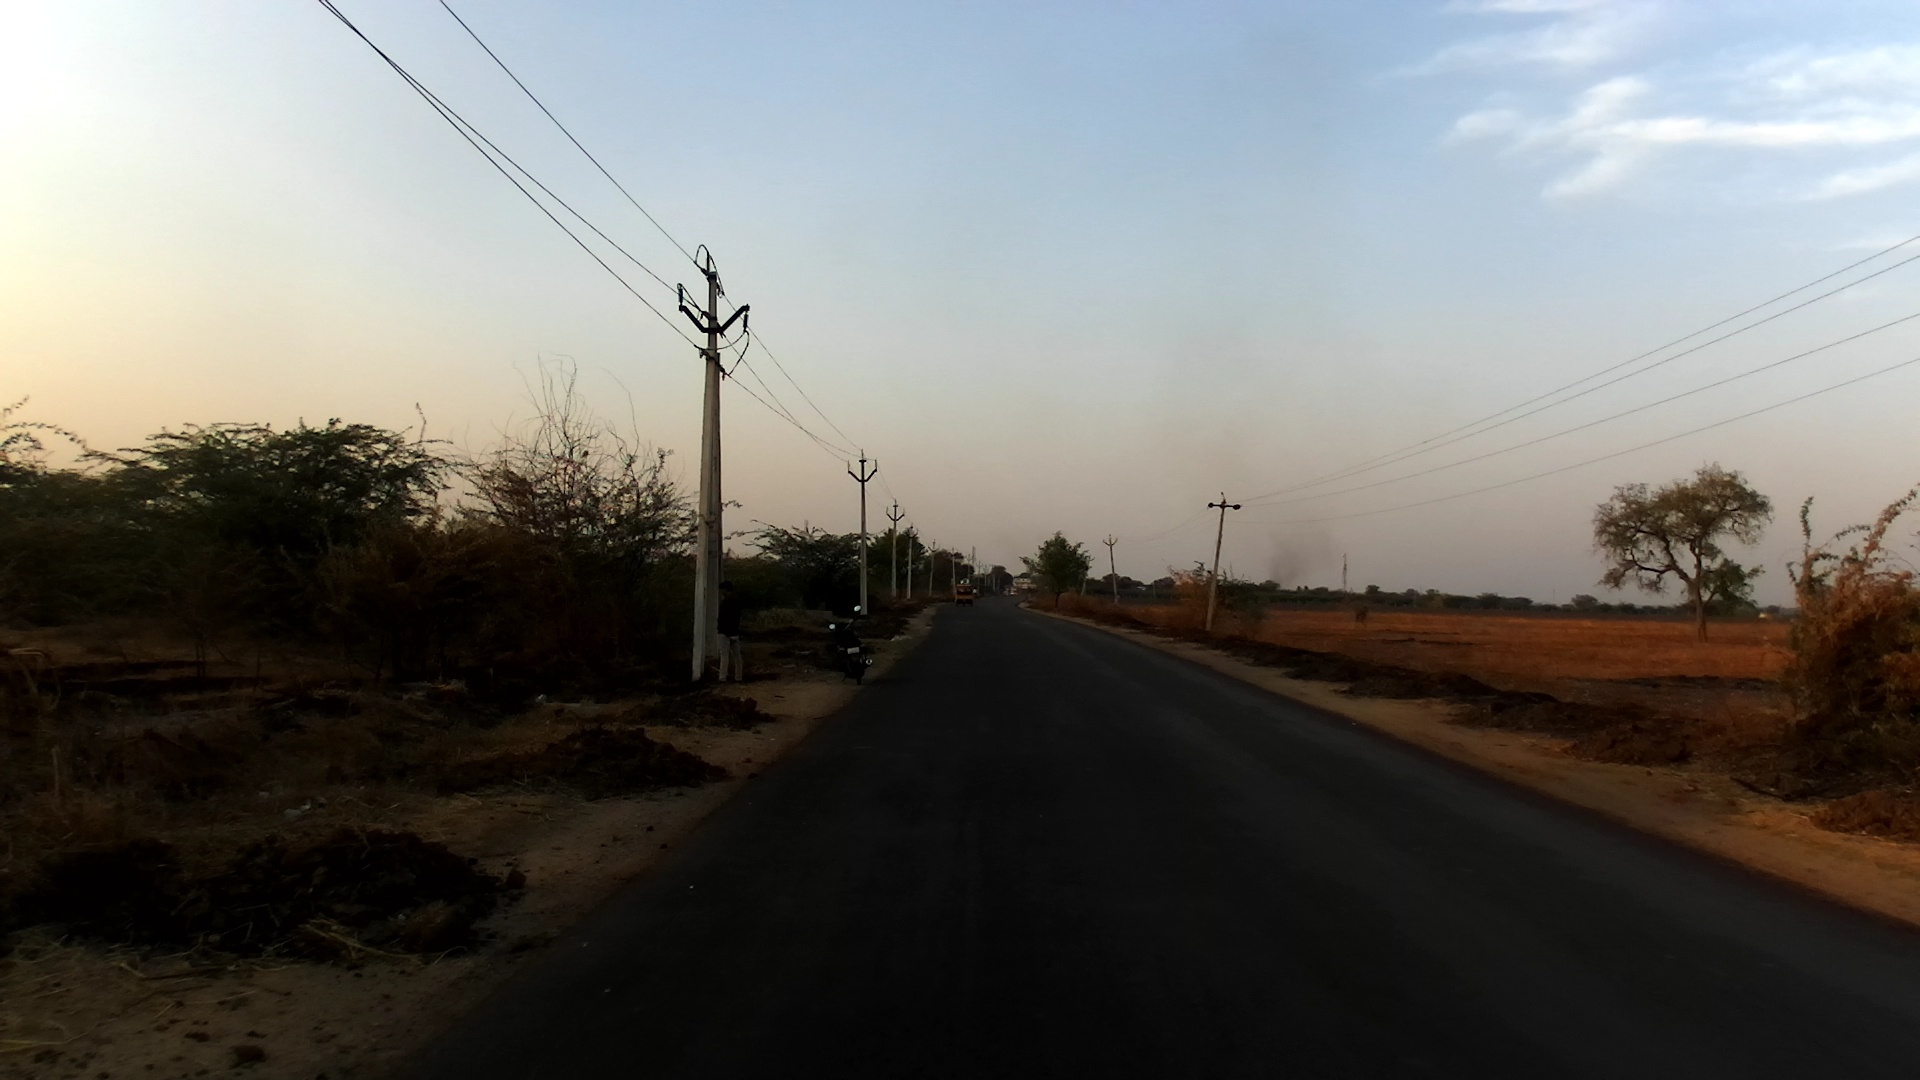autorickshaw: (955, 578, 977, 608)
motorcycle: (825, 604, 875, 686)
person: (718, 583, 749, 688)
vehicle fallback: (1010, 584, 1021, 597), (1005, 587, 1010, 596)
